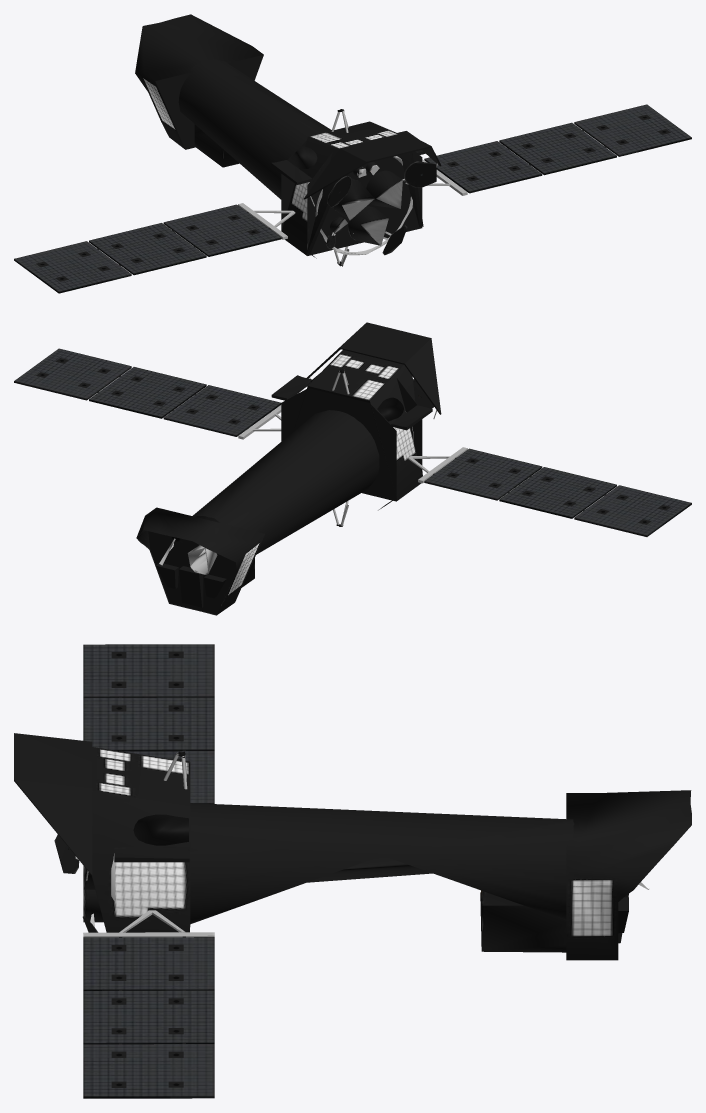
The model's file is xmm-low.glb.
The picture shows the model from 3 angles, top to bottom: view 1: azimuth 30°, elevation 25°; view 2: azimuth 150°, elevation 25°; view 3: azimuth 270°, elevation 25°; orthographic projection. The views are drawn at different scales.
Parts seen in each view (by area): view 1: XMM_Newton; view 2: XMM_Newton; view 3: XMM_Newton.
Boxes of the visible parts, x1=… form: XMM_Newton: x1=14, y1=14, x2=691, y2=293; XMM_Newton: x1=14, y1=322, x2=691, y2=615; XMM_Newton: x1=14, y1=644, x2=691, y2=1098.
Bounding box in the file's own units: 1592 × 378 × 1010.
1 material, 1 textured.
